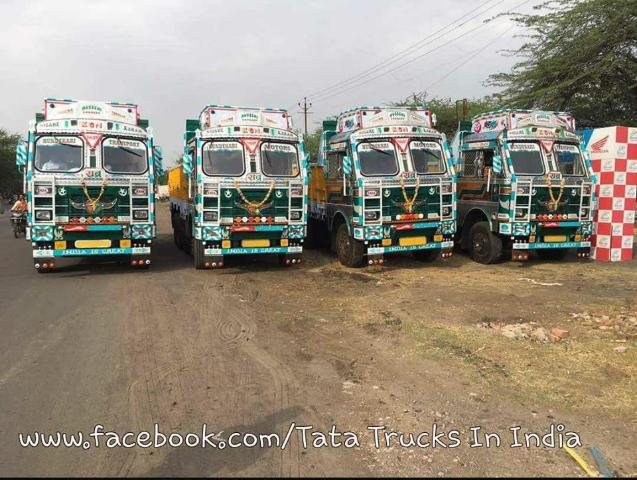motorcycle: (1, 196, 35, 242)
truck: (453, 86, 599, 263), (23, 88, 156, 277), (168, 101, 310, 276), (305, 101, 458, 263)
